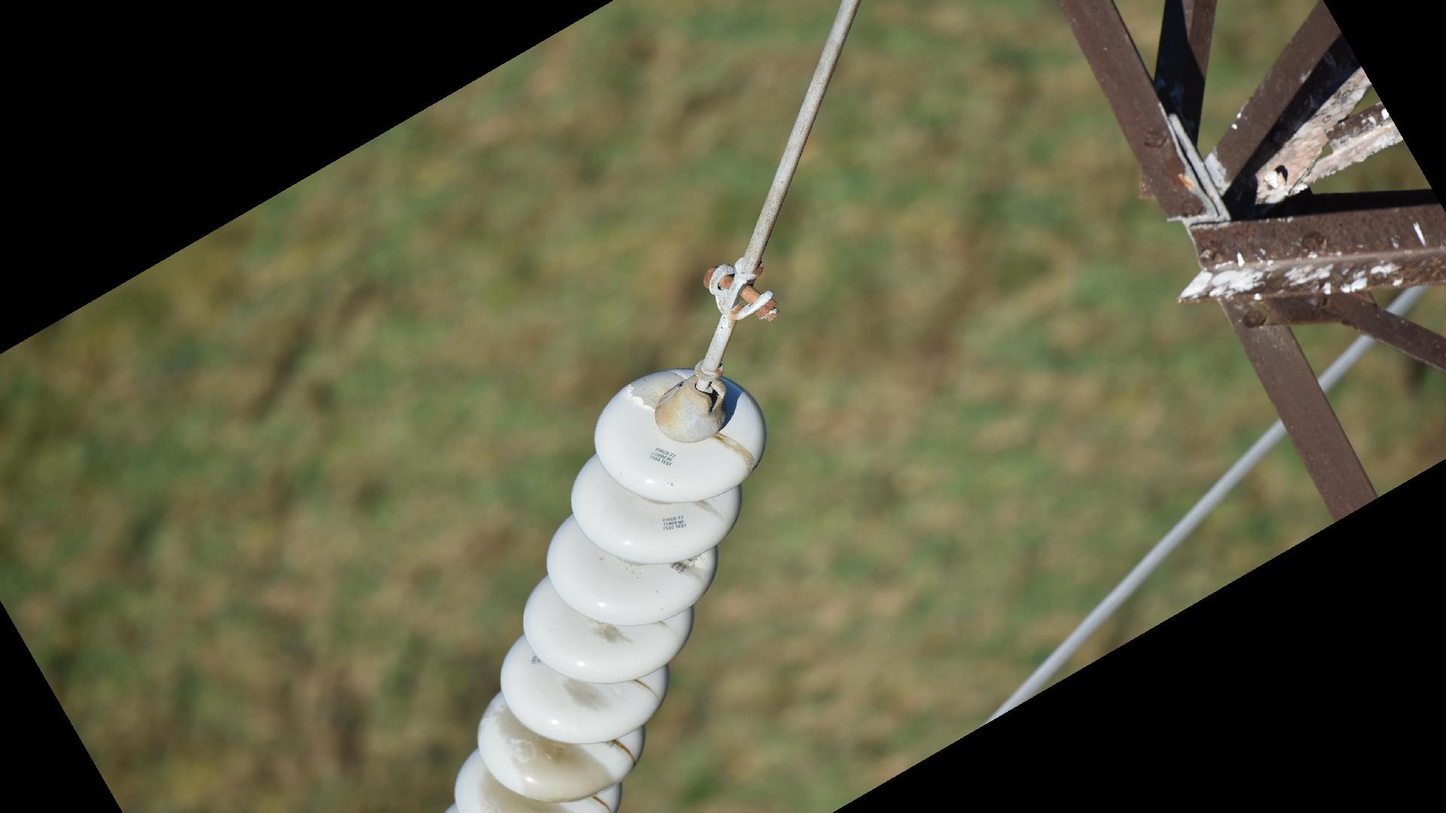insulator: (435, 362, 771, 813)
insulator_flashover: (625, 364, 690, 415)
